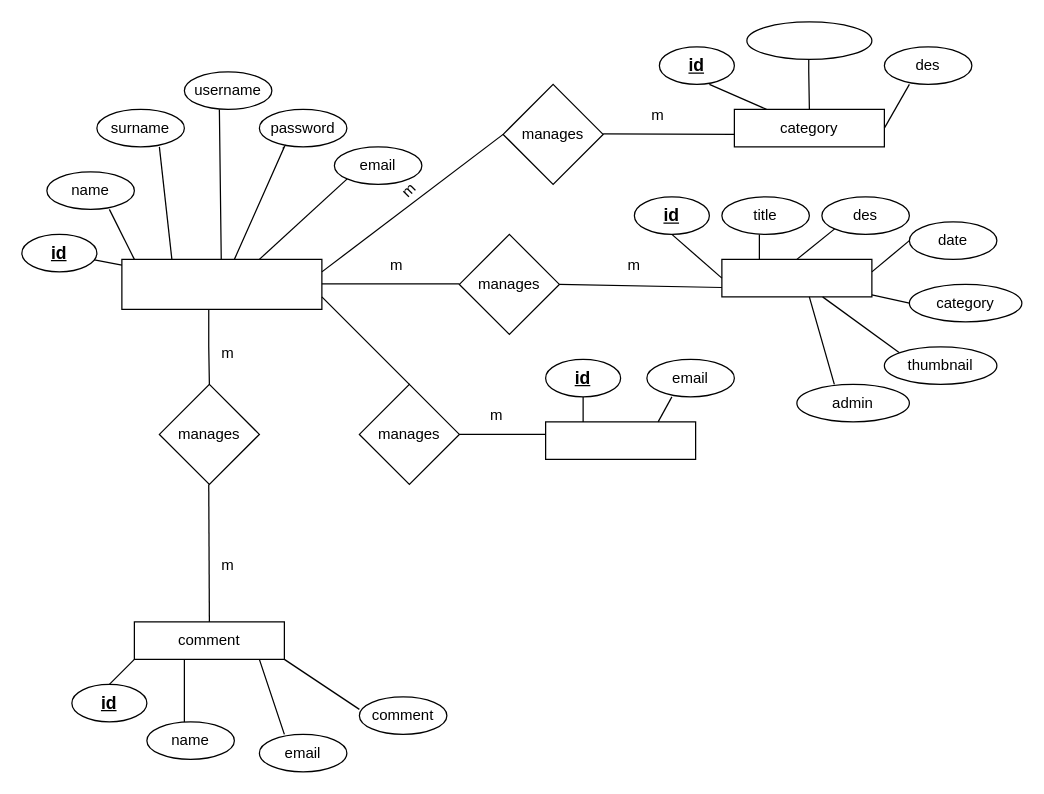
This 1044x794 diagram has some shape labels left out. The centre of each missing label's shape, as x and y in pixels:
"admin_master_tbl" goes at pixel 221 283.
"category_name" goes at pixel 809 40.
"news_tbl" goes at pixel 796 277.
"subscribe_tbl" goes at pixel 620 440.
